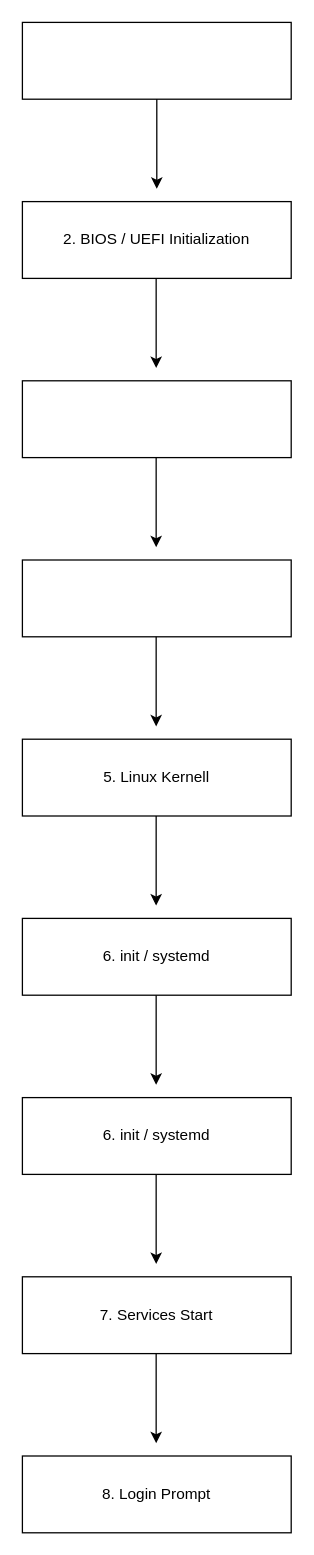
This 314x1555 diagram has some shape labels left out. The centre of each missing label's shape, as x and y in pixels:
1. Power On: point 156,60
3. Boot Device Detection: point 156,419
4. Boot Loader (Grub): point 156,598
